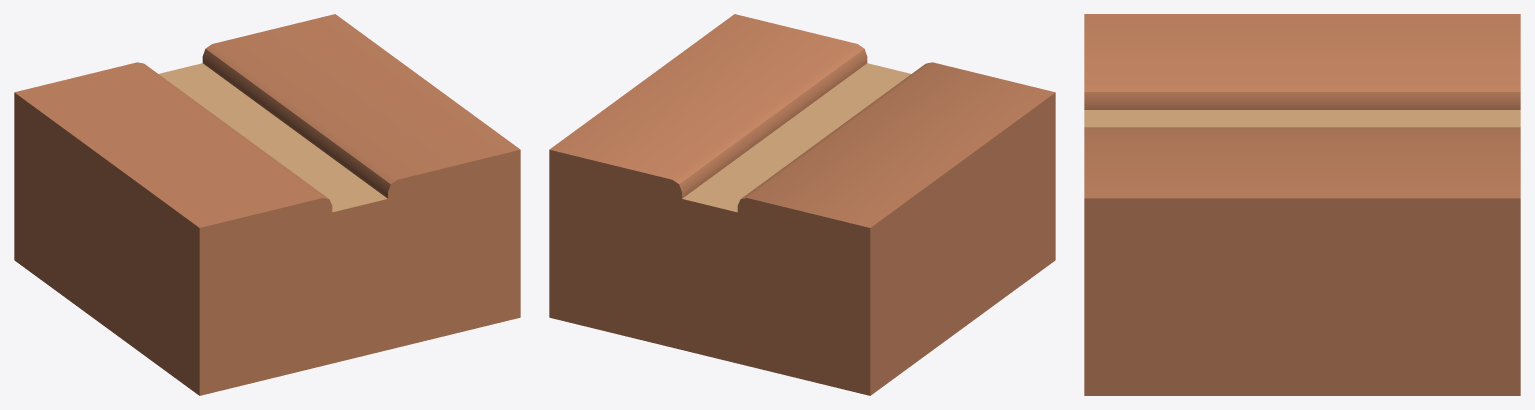
Rendered from kaykit-square-rock-roadb.glb.
3 views of the same model, side by side, from view 1: azimuth 30°, elevation 25°; view 2: azimuth 150°, elevation 25°; view 3: azimuth 270°, elevation 25° (orthographic). The views are drawn at different scales.
Parts seen in each view (by area): view 1: square_rock_roadB; view 2: square_rock_roadB; view 3: square_rock_roadB.
Part boxes in pixels (<box>): square_rock_roadB: <box>14,14,520,395</box>; square_rock_roadB: <box>549,14,1055,395</box>; square_rock_roadB: <box>1084,14,1520,395</box>.
Bounding box in the file's own units: 2 × 0.9998 × 2.
